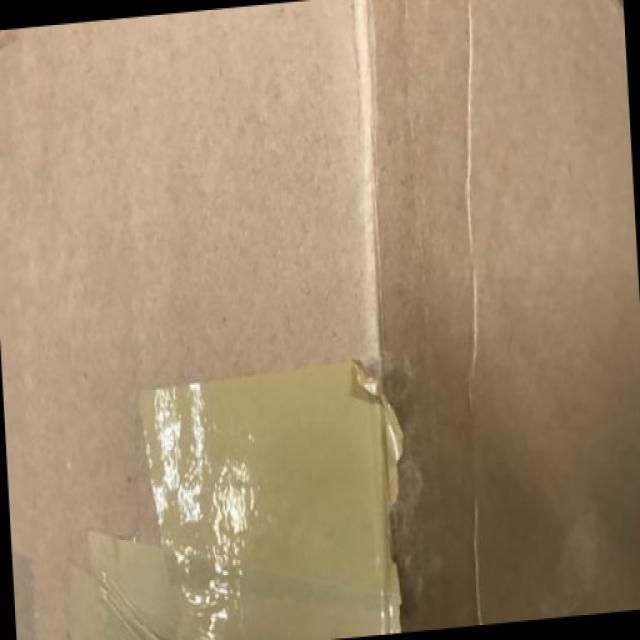carton: (23, 17, 576, 553)
